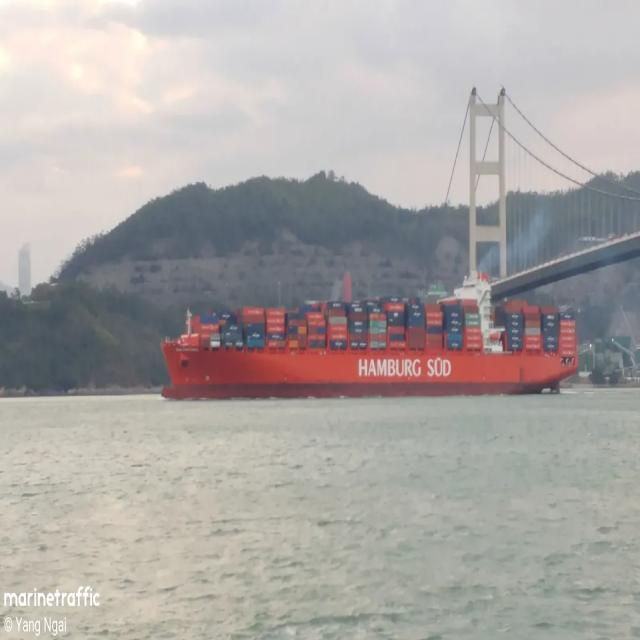Cargo: (161, 274, 578, 399)
